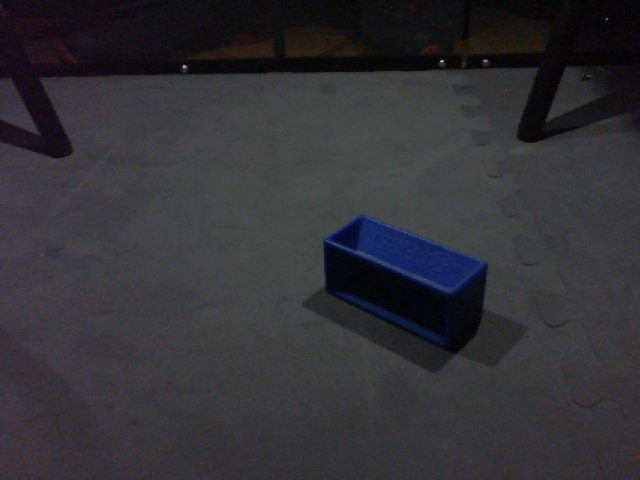BlueSample: (321, 210, 494, 353)
